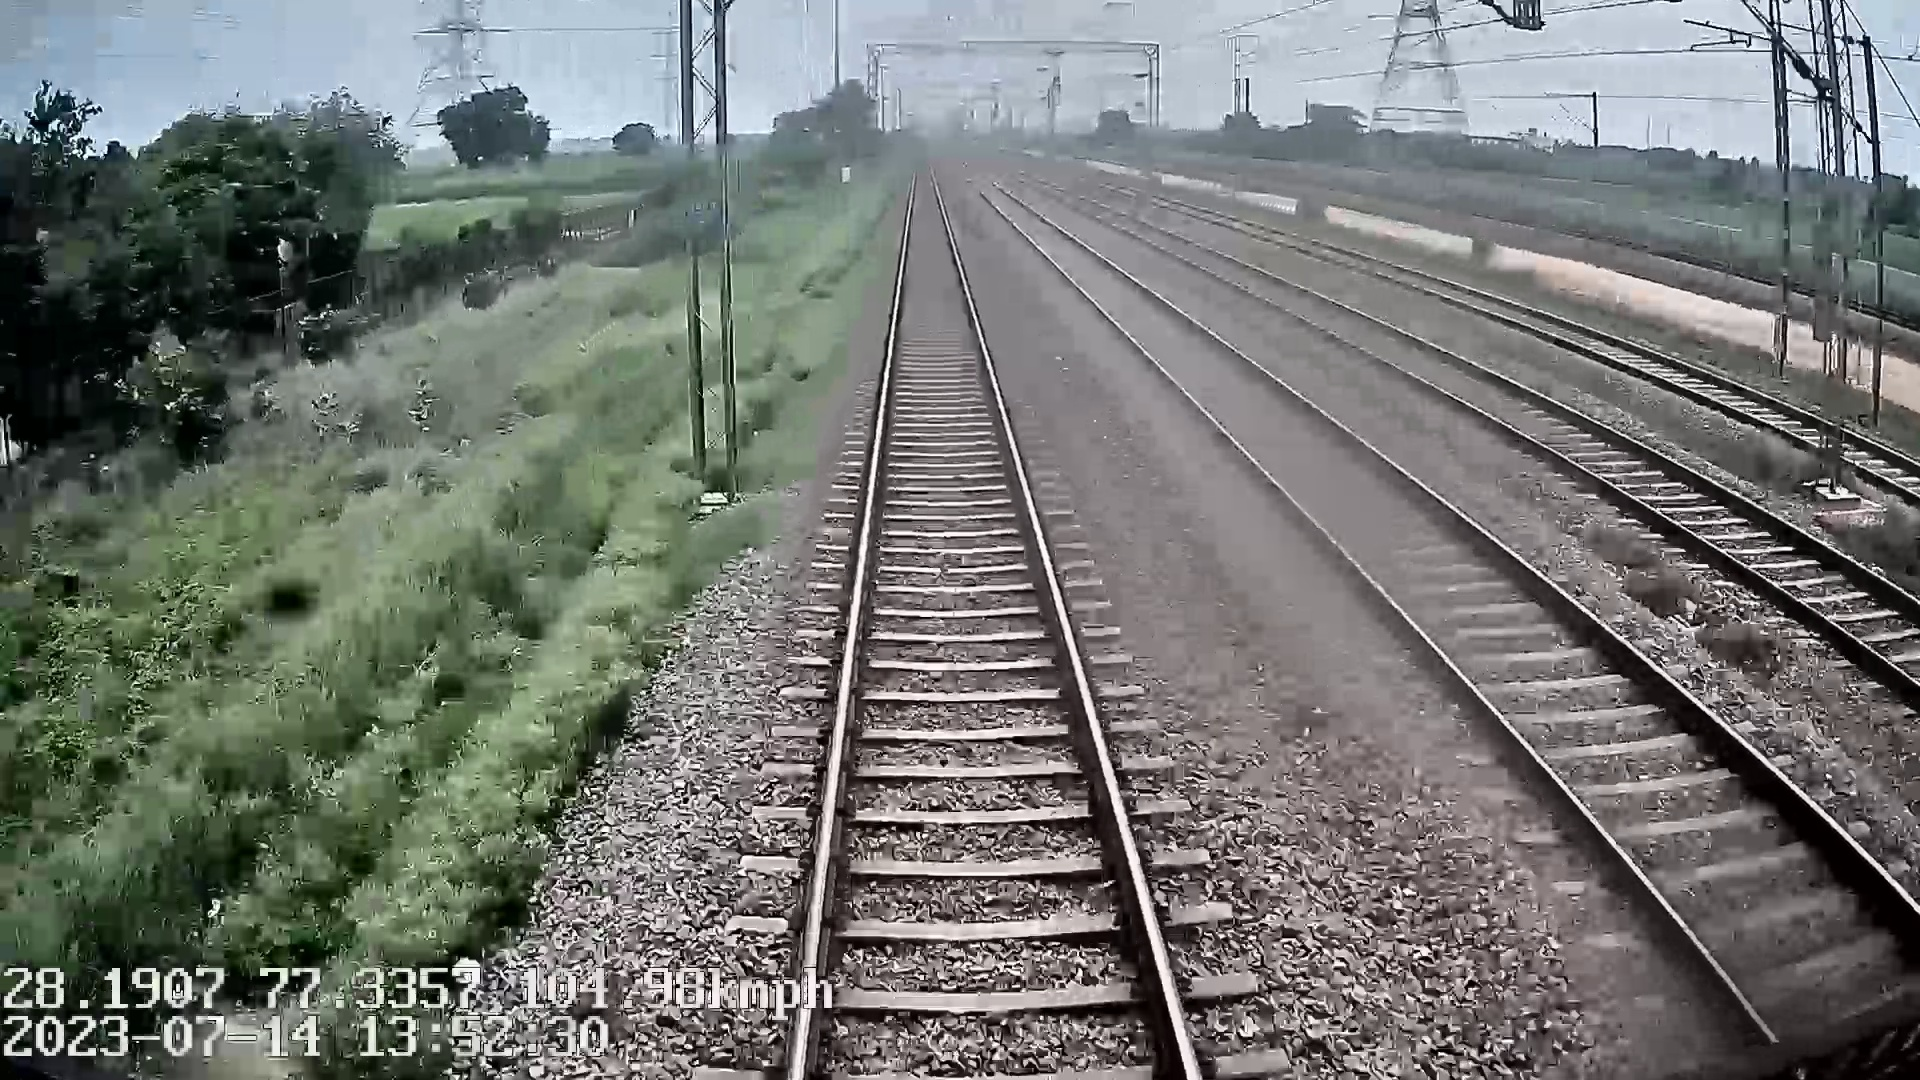track1: (801, 176, 1191, 1070)
track2: (978, 185, 1916, 1020)
track3: (1053, 191, 1919, 669)
track4: (1148, 196, 1916, 489)
